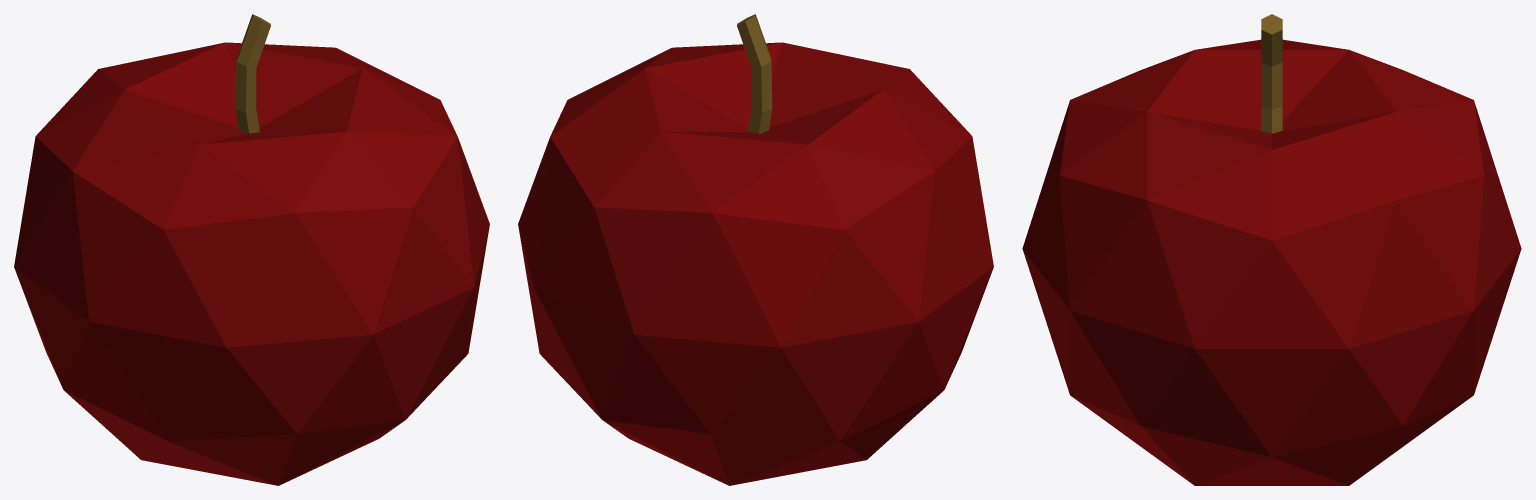
Rendered from Apple.obj.
The picture shows the model from 3 angles, left to right: view 1: azimuth 30°, elevation 25°; view 2: azimuth 150°, elevation 25°; view 3: azimuth 270°, elevation 25°; orthographic projection. The views are drawn at different scales.
Parts seen in each view (by area): view 1: GeoSphere, Cylinder001; view 2: GeoSphere, Cylinder001; view 3: GeoSphere, Cylinder001.
Boxes of the visible parts, x1,y1,x2,y2 form: GeoSphere: (14,42,489,485); Cylinder001: (235,14,270,133); GeoSphere: (518,42,993,485); Cylinder001: (737,14,772,133); GeoSphere: (1022,39,1521,485); Cylinder001: (1261,14,1282,133).
Bounding box in the file's own units: 1.87 × 2 × 1.96.
